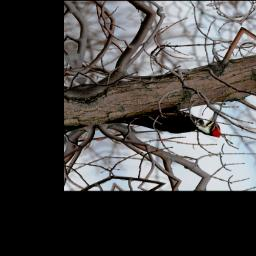Woodpecker: (97, 98, 227, 154)
